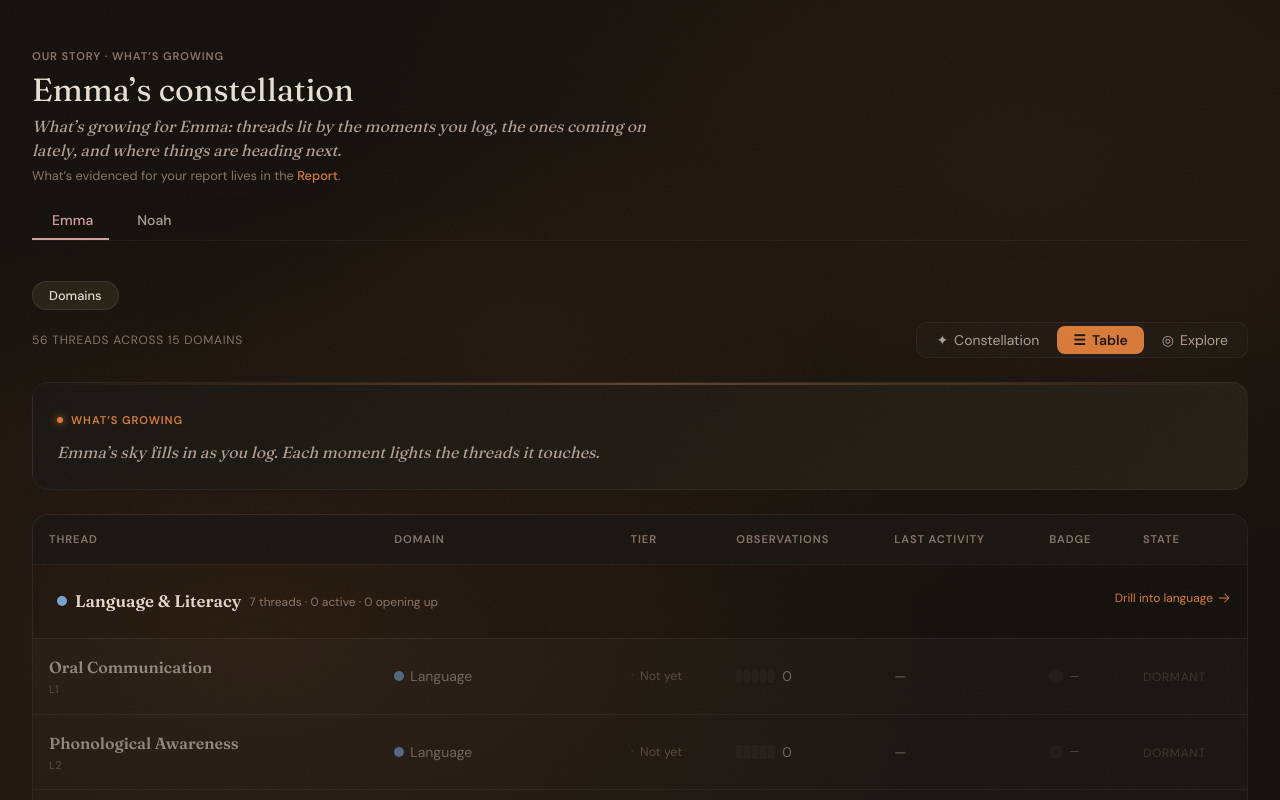
ConstellationRoute › depth navigation › drills from domain (1) -> thread (2) -> DLO (3) -> moments (4) via table view
The width and height of the screenshot is (1280, 800).
Click the button "Drill into" at (640, 601), box [33,564,1247,638]
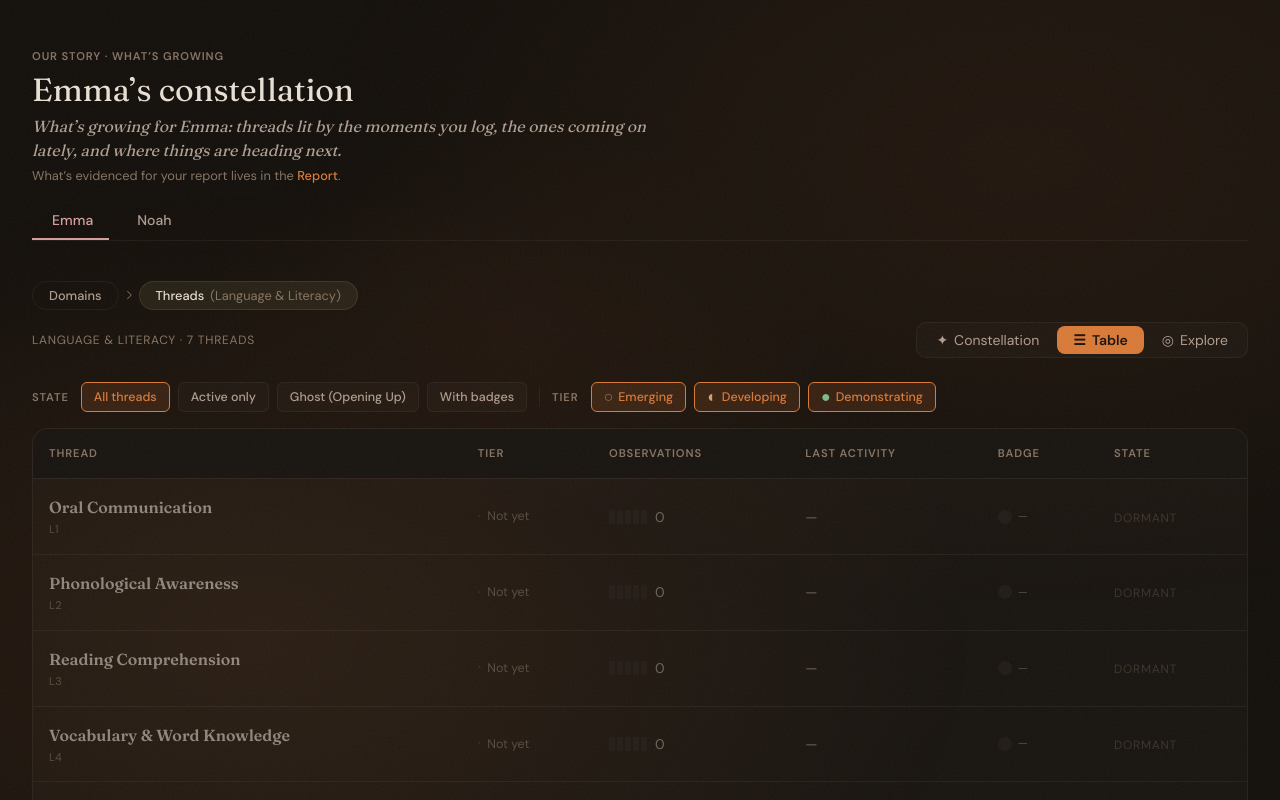
Check: the button "Threads (Language & Literacy)" is shown, box [138,281,358,310]
Click the button "Oral Communication L1 · Not yet 0 — — Dormant" at (640, 517), box [33,479,1247,555]
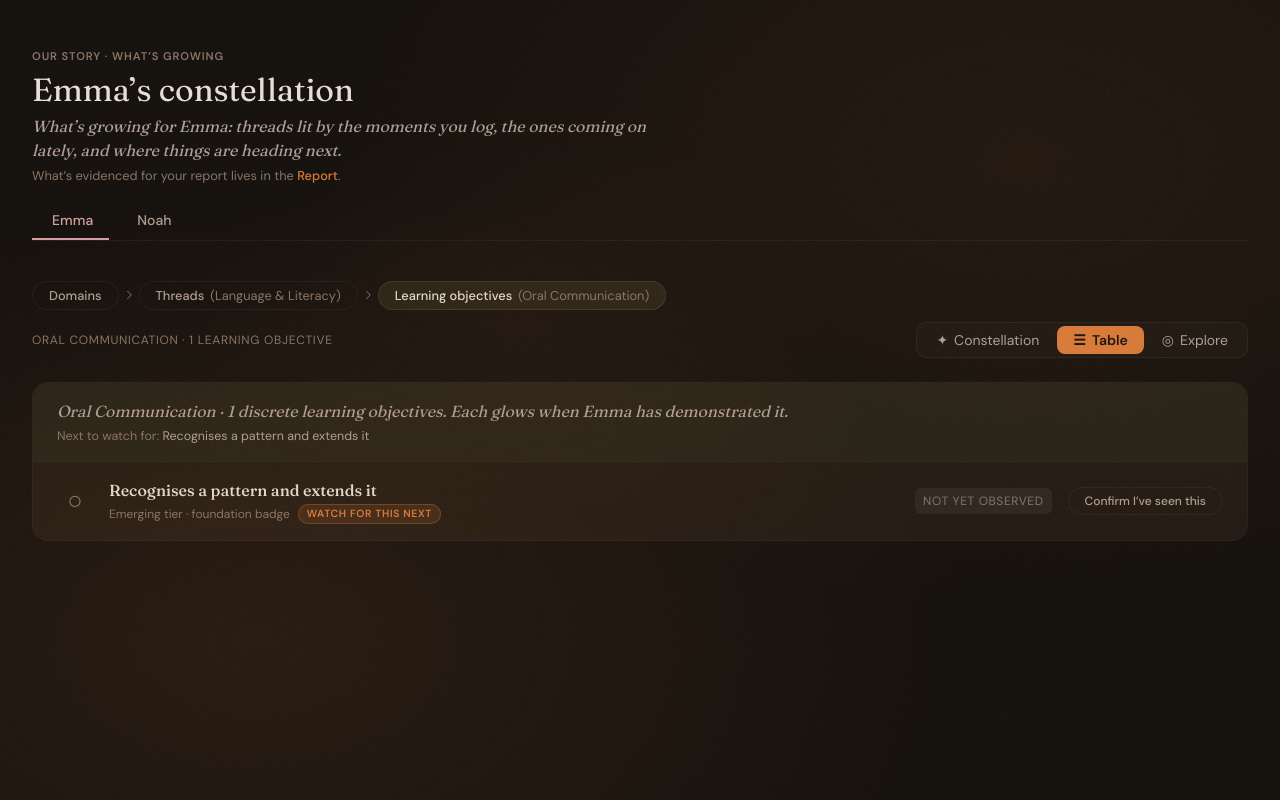
Check: the button "Learning objectives (Oral Communication)" is shown, box [378,281,666,310]
